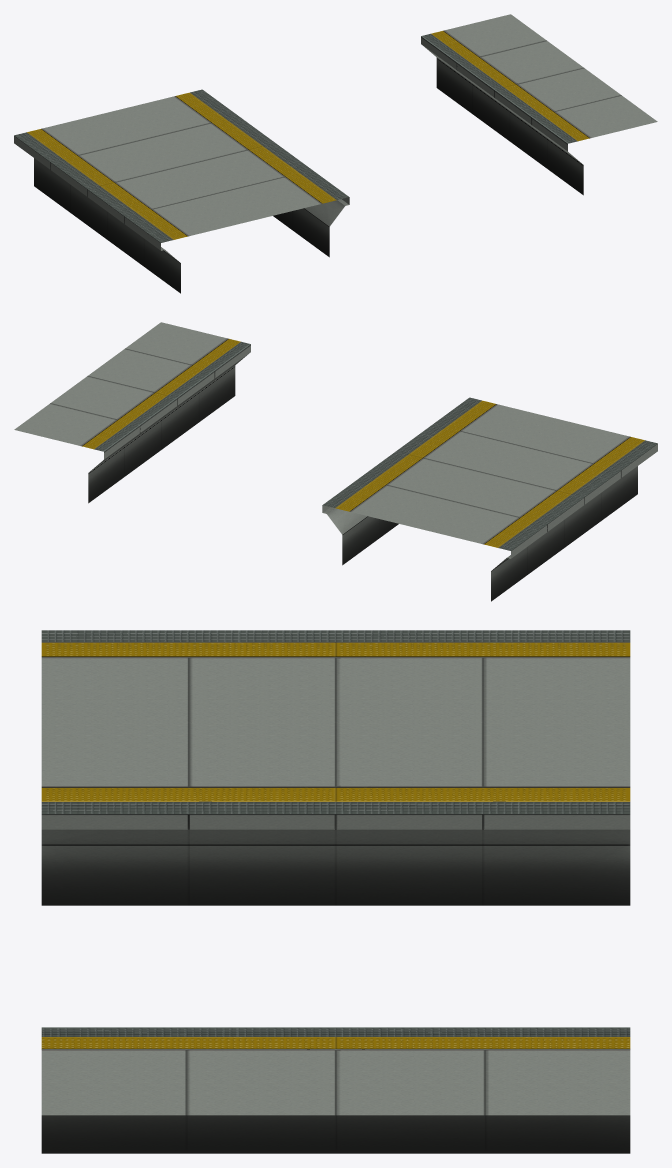
Rendered from platform.fbx.
The picture shows the model from 3 angles, top to bottom: view 1: azimuth 30°, elevation 25°; view 2: azimuth 150°, elevation 25°; view 3: azimuth 270°, elevation 25°; orthographic projection. The views are drawn at different scales.
Parts seen in each view (by area): view 1: polySurface29, polySurface1; view 2: polySurface29, polySurface1; view 3: polySurface29, polySurface1.
Boxes of the visible parts, x1=… form: polySurface29: x1=14, y1=89, x2=349, y2=293; polySurface1: x1=421, y1=14, x2=657, y2=195; polySurface29: x1=322, y1=397, x2=657, y2=601; polySurface1: x1=14, y1=322, x2=250, y2=503; polySurface29: x1=41, y1=630, x2=630, y2=905; polySurface1: x1=41, y1=1027, x2=630, y2=1153.
Bounding box in the file's own units: 46.8 × 5 × 24.
